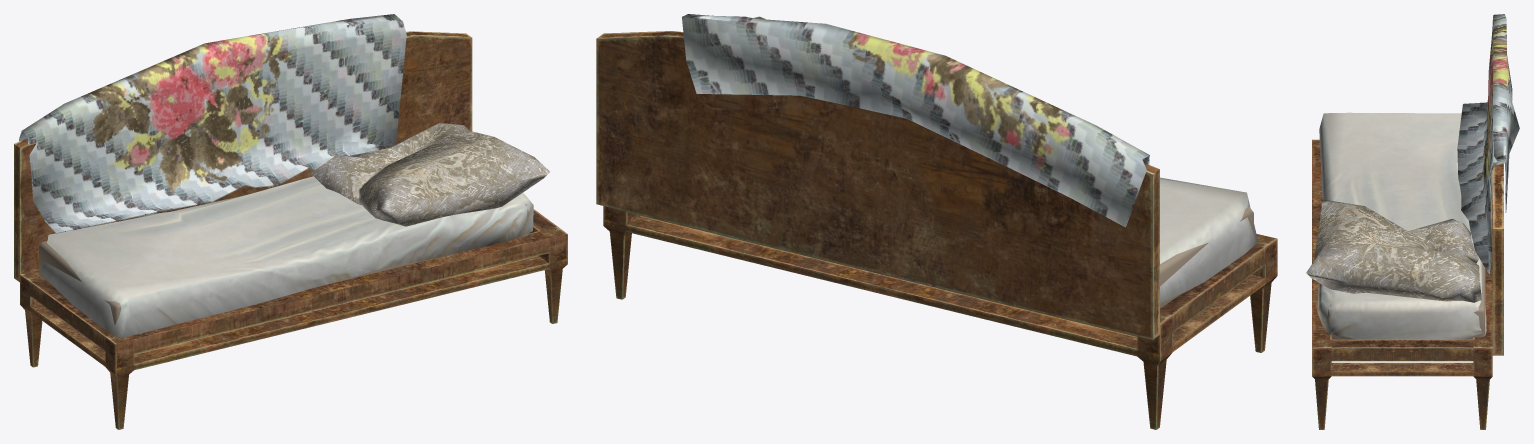
File: vintage_day_bed_lod2.glb
3 views of the same model, side by side, from view 1: azimuth 30°, elevation 25°; view 2: azimuth 150°, elevation 25°; view 3: azimuth 270°, elevation 25° (orthographic). The views are drawn at different scales.
Parts seen in each view (by area): view 1: vintage_day_bed; view 2: vintage_day_bed; view 3: vintage_day_bed.
Part boxes in pixels (left/top/right/bottom): vintage_day_bed: left=14, top=14, right=567, bottom=429; vintage_day_bed: left=596, top=14, right=1277, bottom=429; vintage_day_bed: left=1306, top=14, right=1519, bottom=429.
Size of the model in its own units: 1.97 by 1.12 by 0.8548.
1 material, 1 textured.
